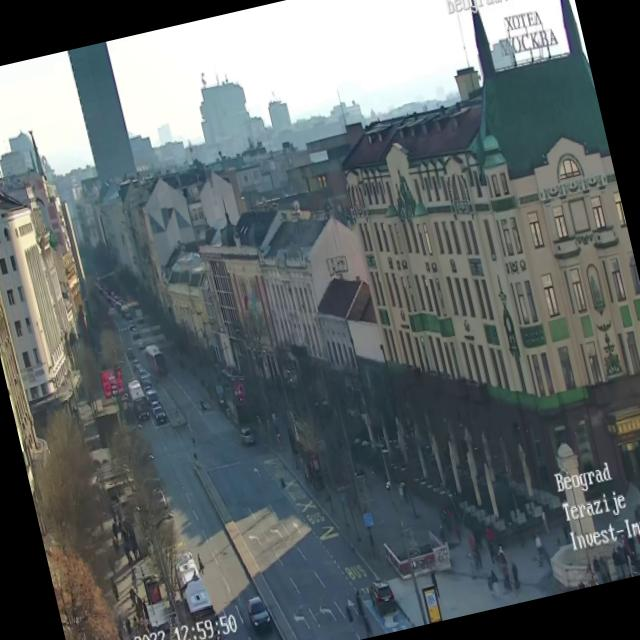bus: (170, 542, 230, 640), (125, 374, 152, 426), (144, 342, 166, 374)
car: (366, 572, 398, 616), (244, 594, 272, 629), (148, 402, 166, 424), (239, 424, 255, 445), (135, 367, 151, 384), (143, 380, 156, 400)
